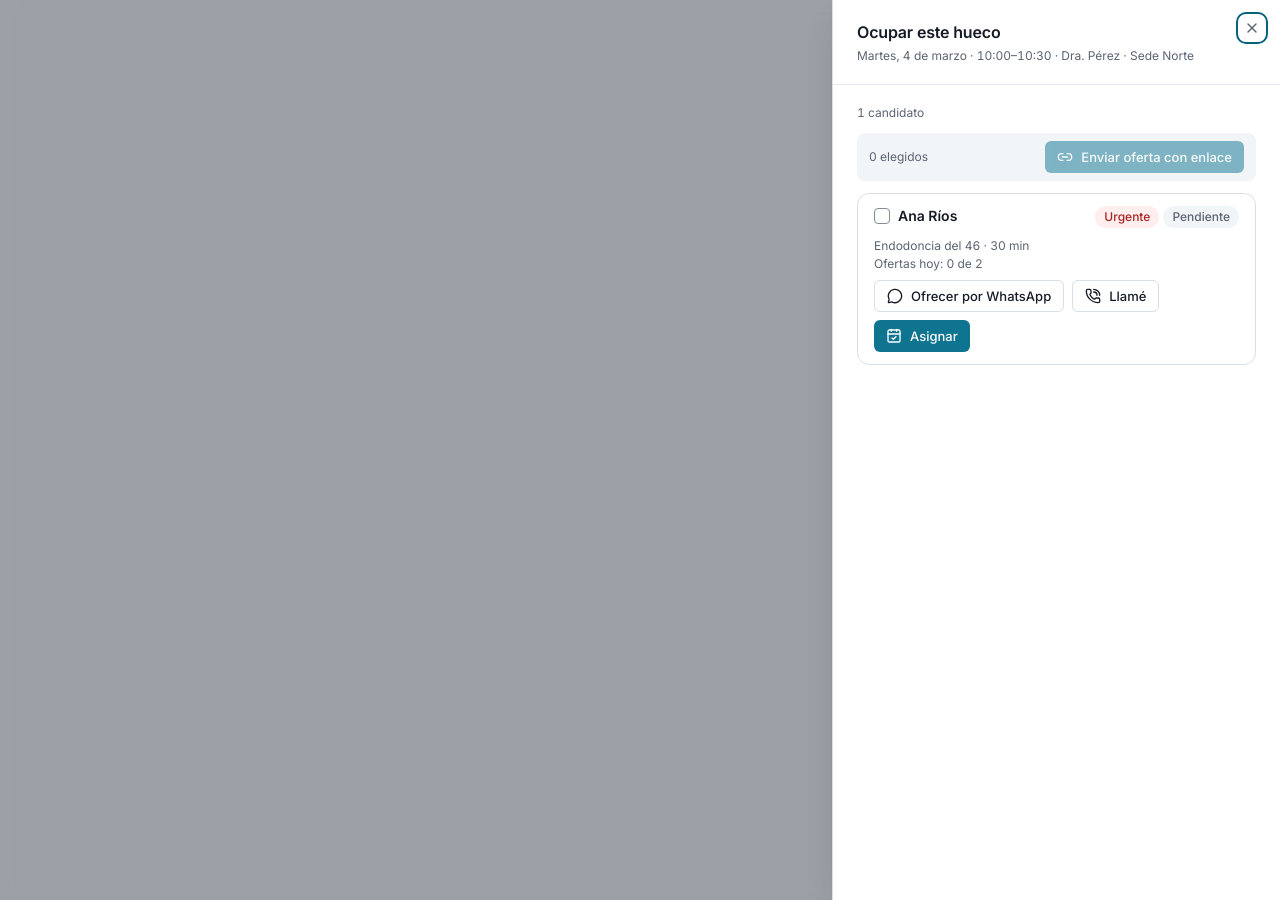
Test: «Ocupar este hueco» (DX-210) › DX-435: oferta con enlace › tras enviar, el modal sigue diciendo a cuántos se envió (no «0 pacientes» ni «Ninguno…»)
The width and height of the screenshot is (1280, 900).
What coordinates should you click on to do the following:
click the checkbox named "Elegir a Ana Ríos para la oferta con enlace"
I would click on:
 (882, 216)
Its box is [874,208,890,224].
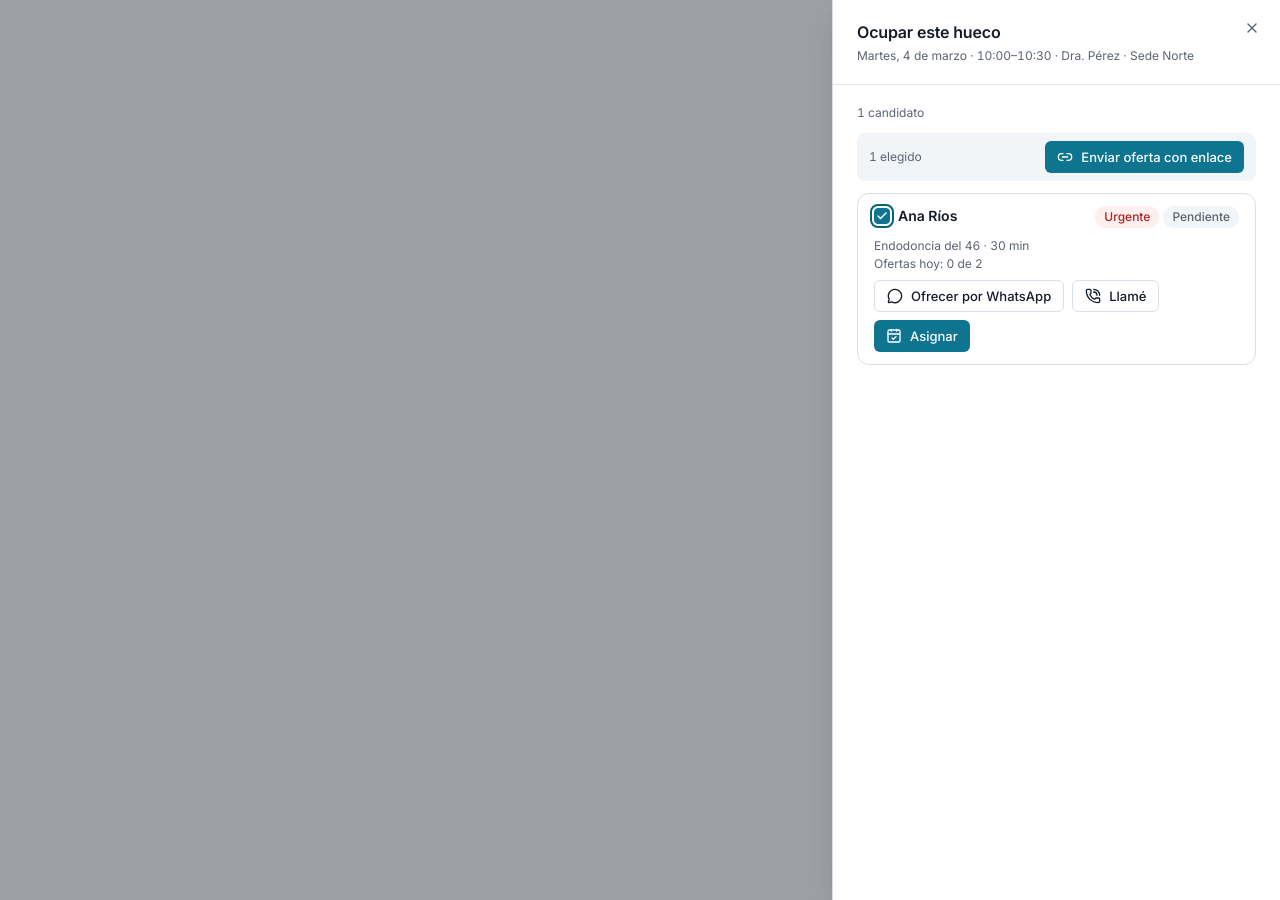
What coordinates should you click on to do the following:
click the button "Enviar oferta con enlace"
I would click on:
 (1145, 157)
Its box is [1045,141,1244,173].
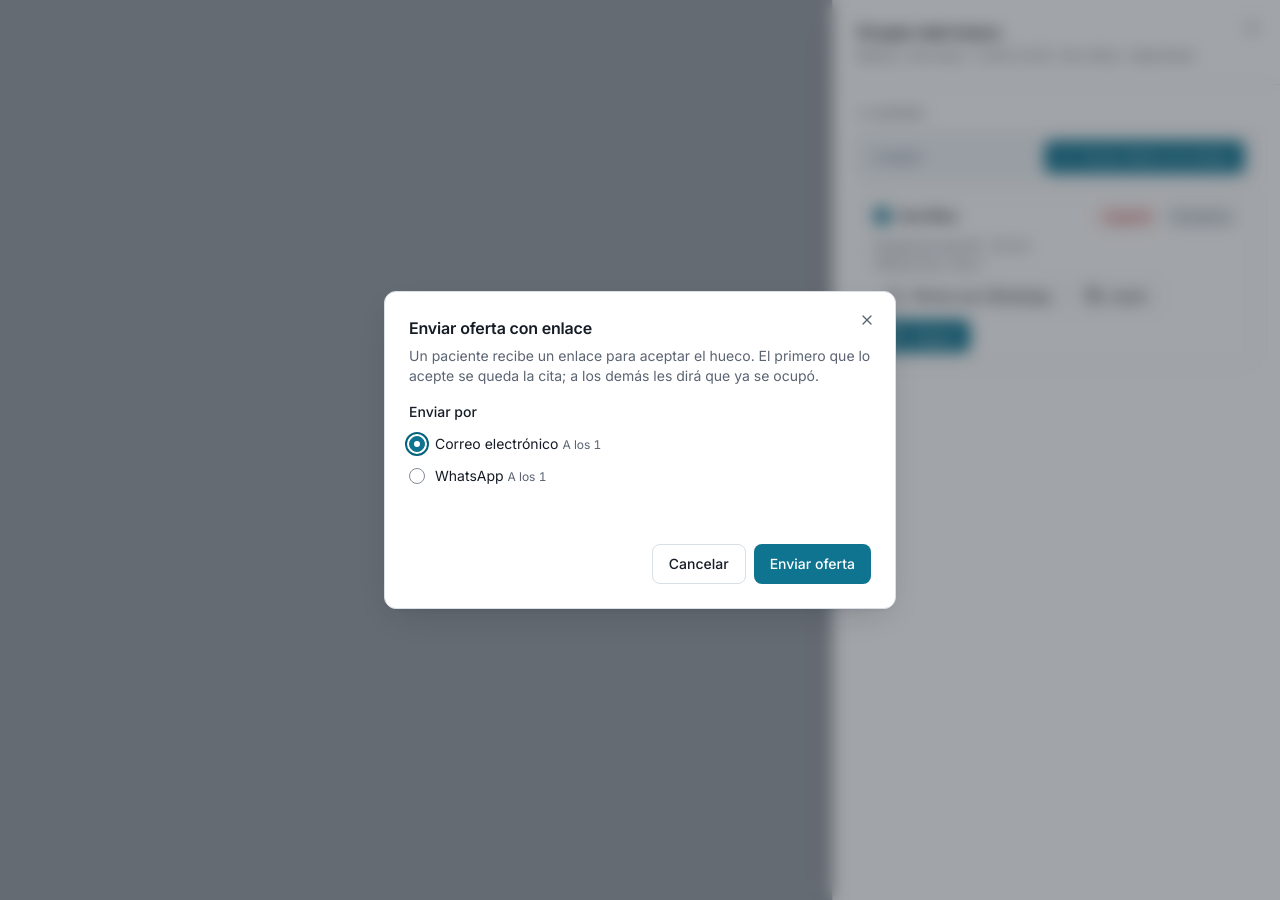
What coordinates should you click on to do the following:
click the button "Enviar oferta"
I would click on:
 (812, 564)
Its box is [754,544,871,584].
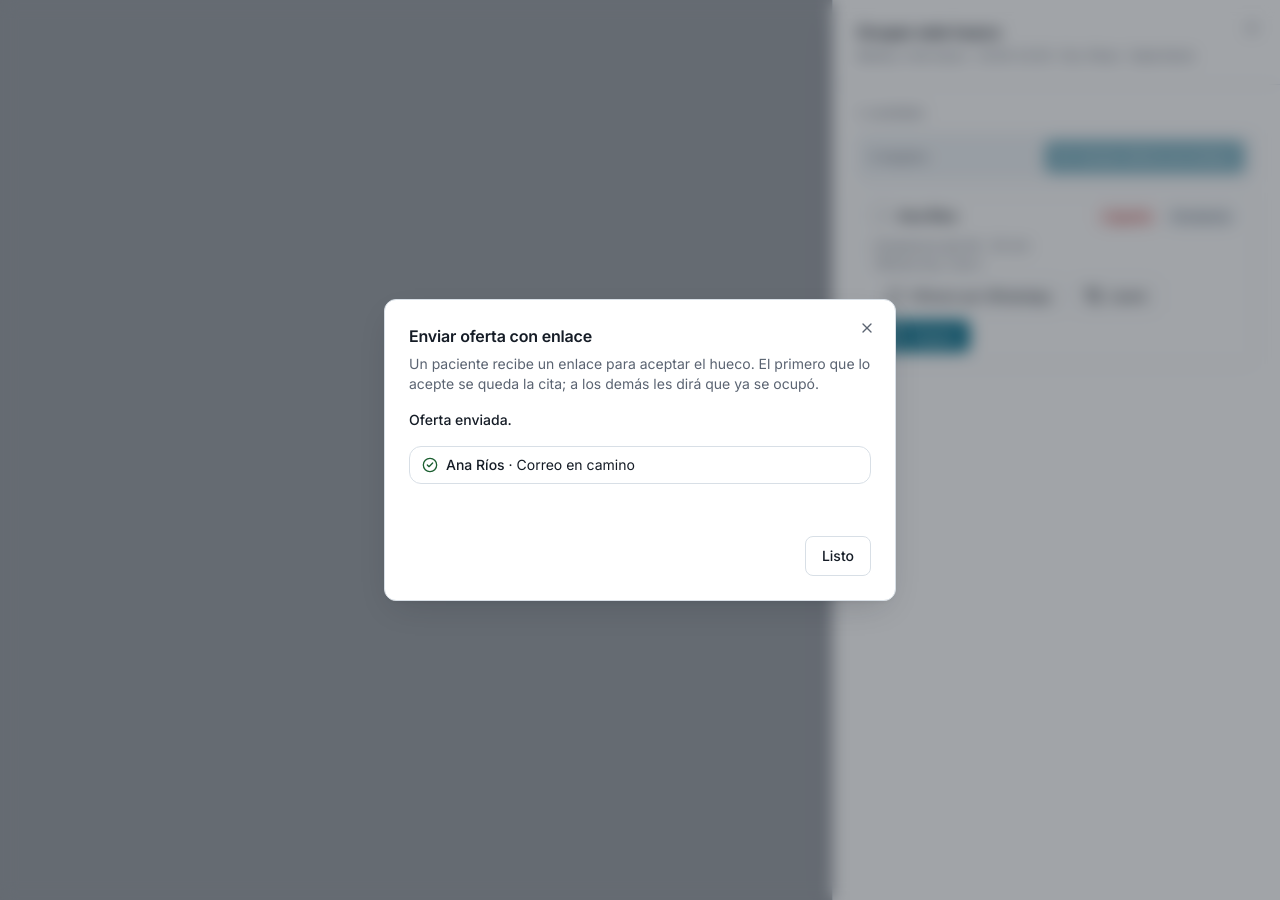
expect the text "Un paciente recibe" is shown: met, box [409,355,870,392]
expect the list with test id "link-offer-results" reads "Ana Ríos · Correo en camino": met, box [409,446,871,484]
